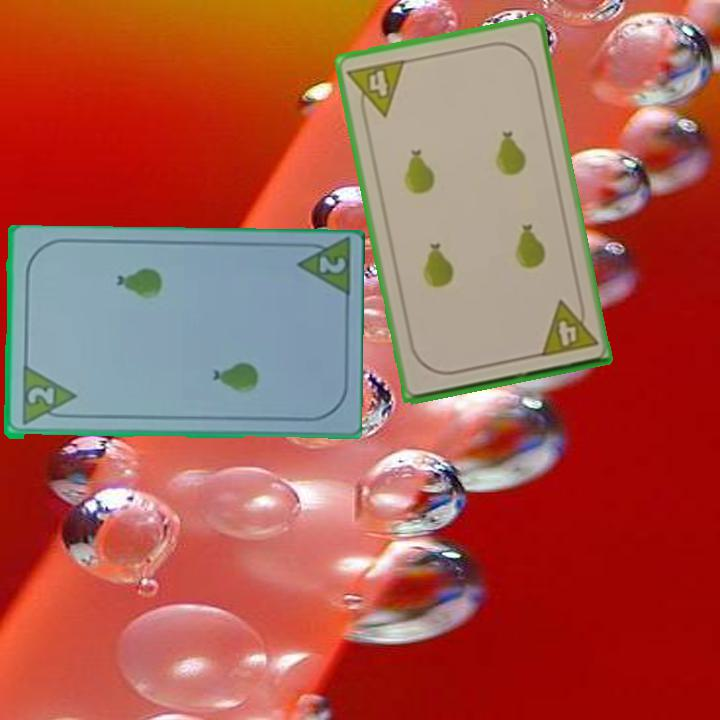2p: (291, 238, 352, 303), (18, 365, 77, 428)
4p: (344, 56, 408, 123), (536, 294, 600, 360)
